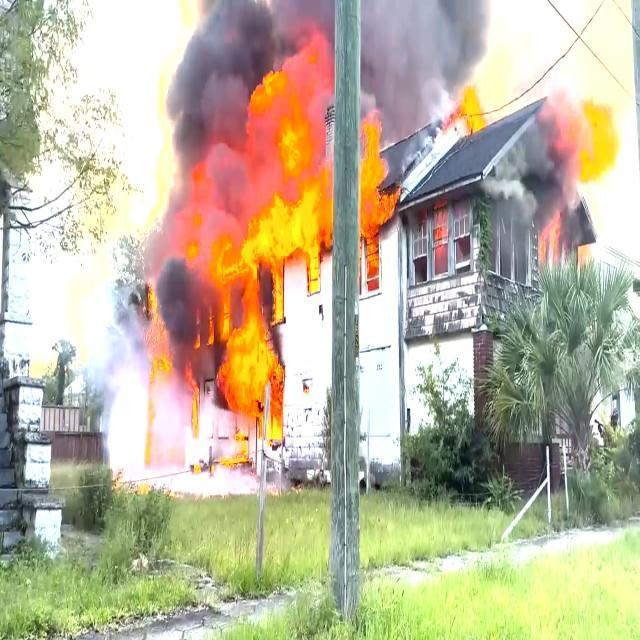Fire: (272, 63, 336, 280), (226, 244, 274, 441)
Smoke: (370, 0, 467, 119), (154, 262, 208, 411), (194, 22, 248, 158)
